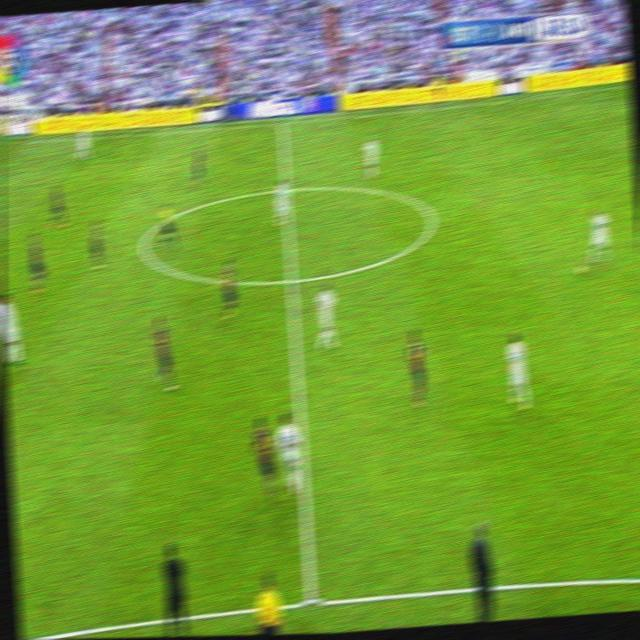halfcircle_bottom: (281, 262, 301, 297)
halfcircle_top: (279, 177, 295, 200)
midline_bottom_intersection: (300, 581, 323, 610)
midline_top_intersection: (274, 116, 290, 132)
